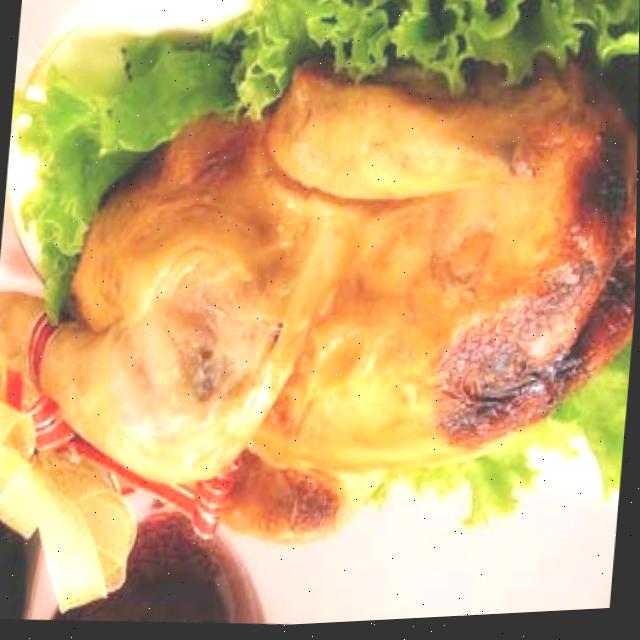鸡肉料理 含炸鸡: (0, 10, 640, 540)
